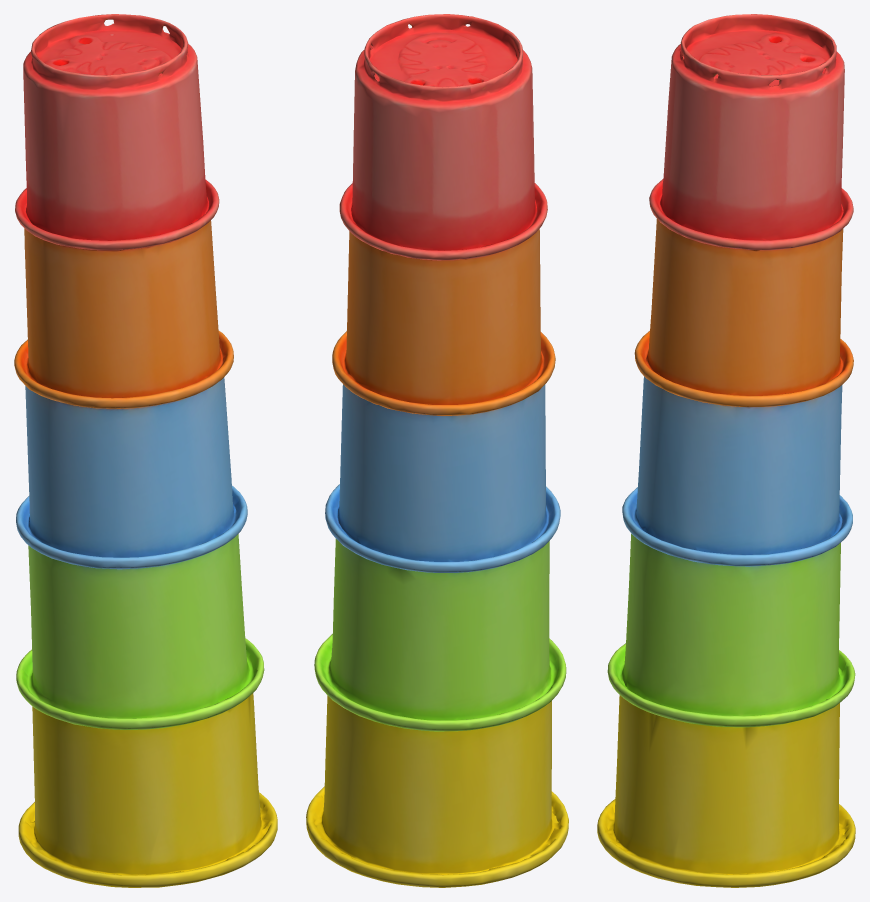
The model's file is cups.glb.
3 views of the same model, side by side, from view 1: azimuth 30°, elevation 25°; view 2: azimuth 150°, elevation 25°; view 3: azimuth 270°, elevation 25° (orthographic).
Parts seen in each view (by area): view 1: Baby_Elements_Stacking_Cups; view 2: Baby_Elements_Stacking_Cups; view 3: Baby_Elements_Stacking_Cups.
Part boxes in pixels (bbox=[...]): Baby_Elements_Stacking_Cups: bbox=[14, 14, 277, 887]; Baby_Elements_Stacking_Cups: bbox=[306, 14, 568, 887]; Baby_Elements_Stacking_Cups: bbox=[597, 14, 855, 887].
Bounding box in the file's own units: 0.1028 × 0.3463 × 0.1026.
Materials: 1 (1 with a texture image).
